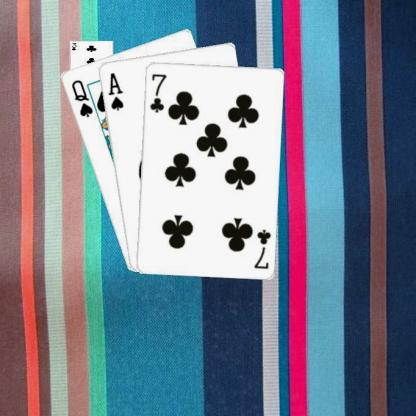7C: (147, 70, 168, 114), (252, 226, 272, 271)
AS: (105, 70, 124, 112)
QS: (68, 77, 94, 119)
